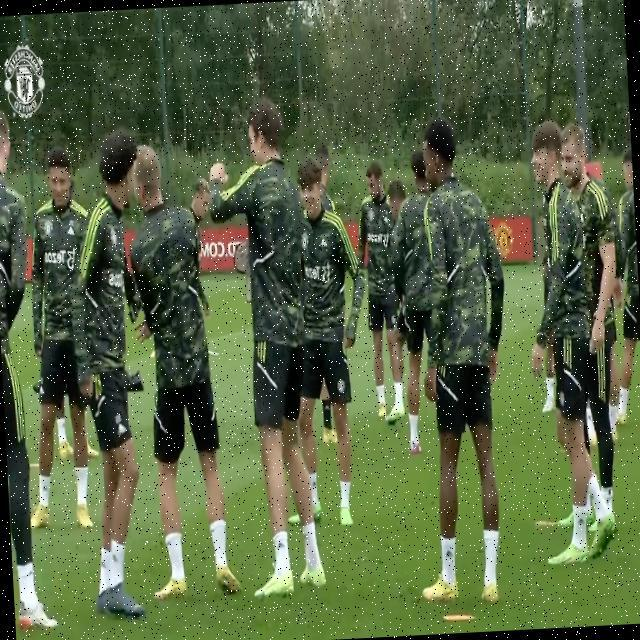Adidas: (444, 546, 455, 562), (318, 237, 329, 252), (117, 424, 127, 437)
